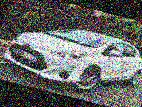car: (0, 11, 142, 104)
